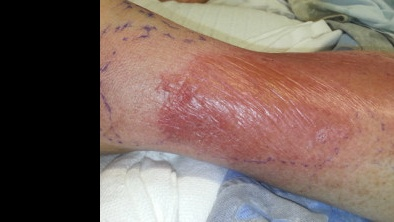SJS-TEN: (67, 0, 394, 222)
